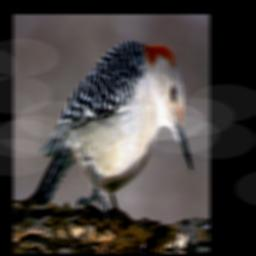Woodpecker: (37, 38, 192, 222)
